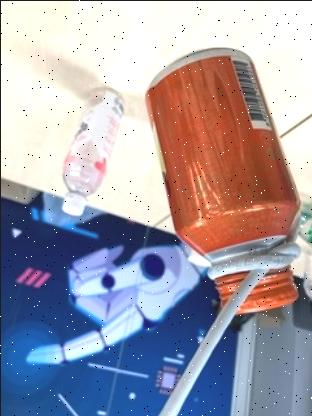Others: (140, 47, 298, 316)
Plastic Bottle: (58, 84, 126, 216)
